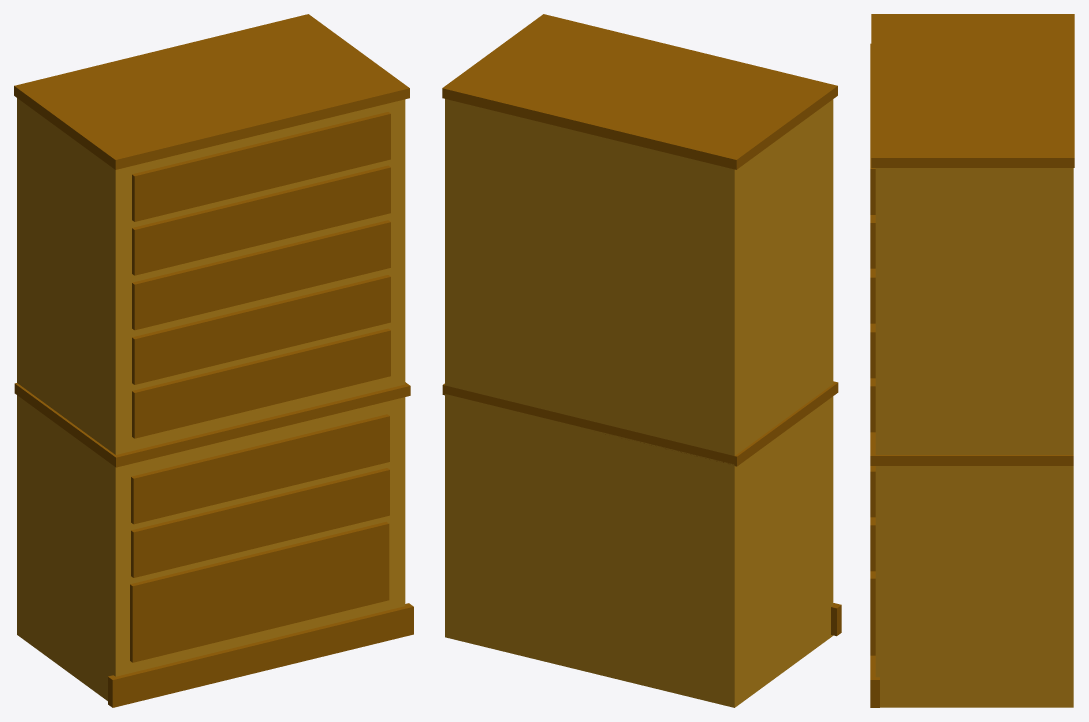
File: highBoyDresser.obj
3 views of the same model, side by side, from view 1: azimuth 30°, elevation 25°; view 2: azimuth 150°, elevation 25°; view 3: azimuth 270°, elevation 25° (orthographic).
Parts seen in each view (by area): view 1: top_section, bottom_section, top, drawer_8, drawer_3, drawer_2, drawer_5, drawer_7, drawer_6, drawer_1, drawer_4, bottom_trim (+1 smaller); view 2: top_section, bottom_section, top, separator; view 3: top_section, bottom_section, top, separator, drawer_1, drawer_8, bottom_trim.
Boxes of the visible parts, bbox=[...] form: top_section: bbox=[17, 98, 405, 454]; bottom_section: bbox=[17, 395, 405, 700]; top: bbox=[14, 14, 409, 169]; drawer_8: bbox=[130, 521, 389, 662]; drawer_3: bbox=[132, 220, 390, 330]; drawer_2: bbox=[132, 165, 390, 275]; drawer_5: bbox=[132, 328, 390, 438]; drawer_7: bbox=[131, 468, 389, 577]; drawer_6: bbox=[131, 414, 389, 524]; drawer_1: bbox=[132, 112, 390, 221]; drawer_4: bbox=[132, 275, 390, 384]; bottom_trim: bbox=[108, 603, 413, 707]; top_section: bbox=[445, 99, 833, 455]; bottom_section: bbox=[445, 394, 833, 707]; top: bbox=[442, 14, 837, 169]; separator: bbox=[442, 381, 838, 466]; top_section: bbox=[875, 168, 1073, 454]; bottom_section: bbox=[875, 466, 1073, 707]; top: bbox=[871, 14, 1074, 167]; separator: bbox=[870, 432, 1073, 465]; drawer_1: bbox=[870, 43, 875, 214]; drawer_8: bbox=[870, 571, 875, 655]; bottom_trim: bbox=[870, 655, 879, 707].
Size of the model in its own units: 3.17 by 5.53 by 1.86.
